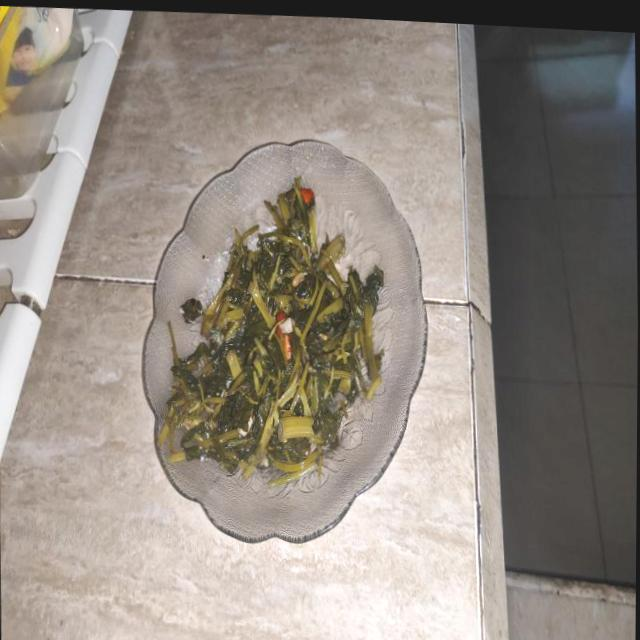tumis_kangkung: (168, 202, 384, 478)
